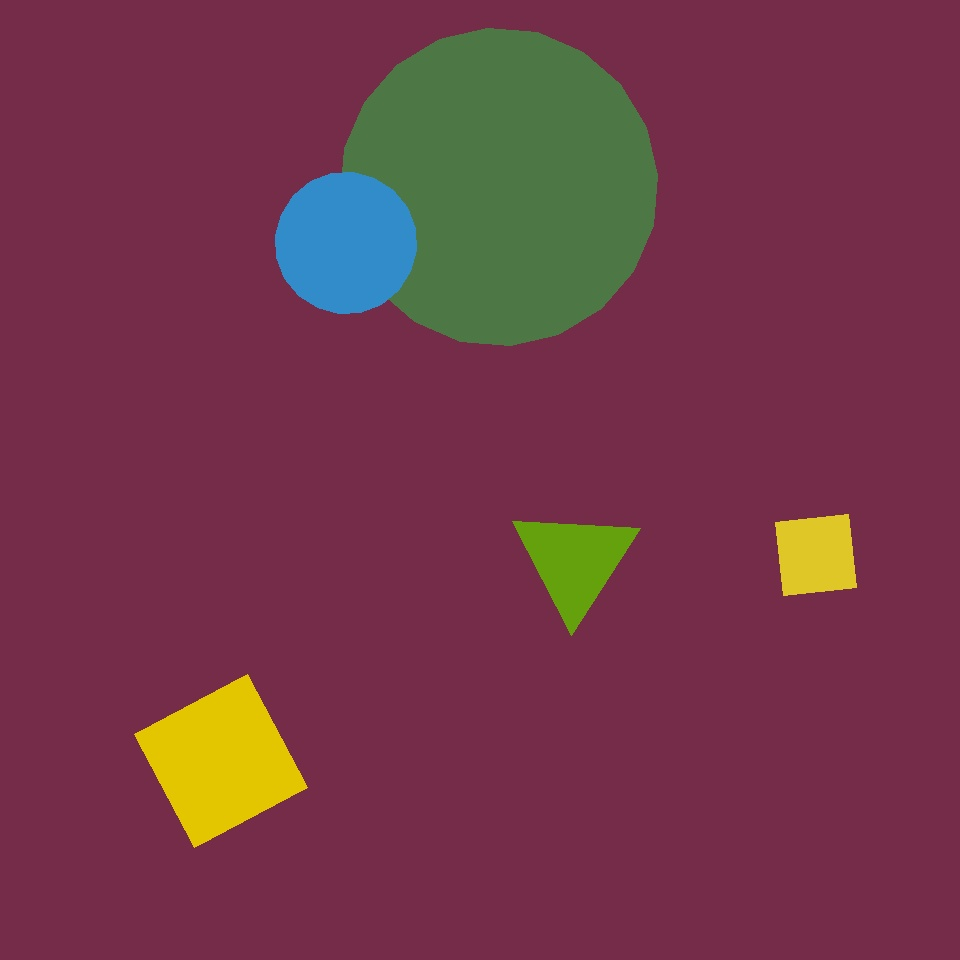circle: (511, 505, 639, 619)
square: (134, 674, 308, 848), (775, 514, 856, 596)
triangle: (340, 29, 657, 346), (276, 172, 416, 314)
